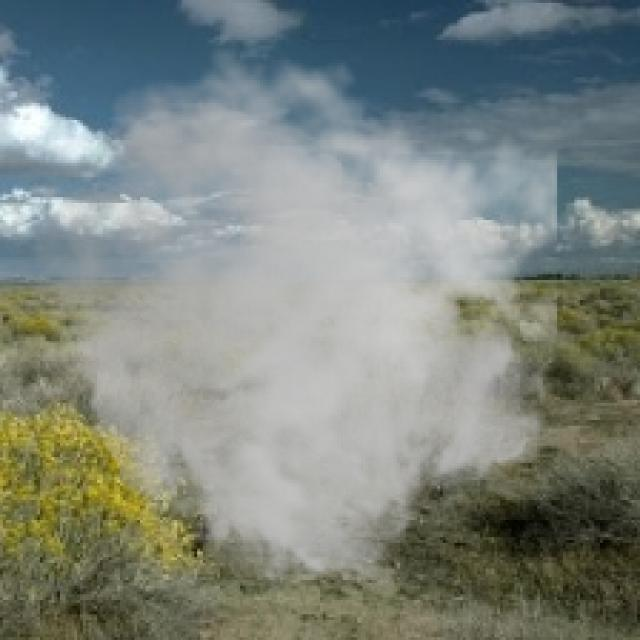smoke: (32, 43, 557, 600)
